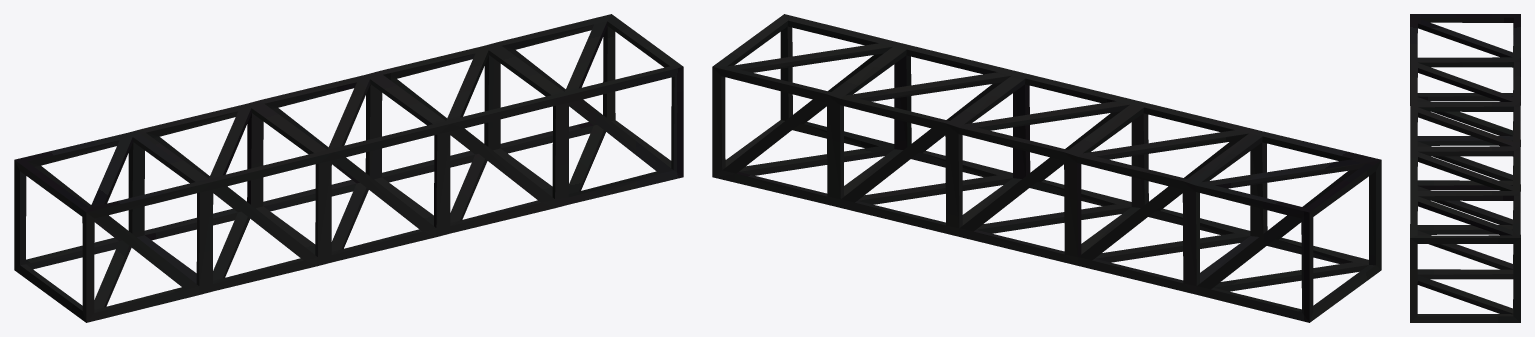
The model's file is Highway_Segment_Sign_Struct01.fbx.
The picture shows the model from 3 angles, left to right: view 1: azimuth 30°, elevation 25°; view 2: azimuth 150°, elevation 25°; view 3: azimuth 270°, elevation 25°; orthographic projection. The views are drawn at different scales.
Visible parts, largest first — view 1: SM_City_Highway_Sign_Struct_02.mo; view 2: SM_City_Highway_Sign_Struct_02.mo; view 3: SM_City_Highway_Sign_Struct_02.mo.
Part boxes in pixels (<box>): SM_City_Highway_Sign_Struct_02.mo: <box>14,14,683,322</box>; SM_City_Highway_Sign_Struct_02.mo: <box>712,14,1381,322</box>; SM_City_Highway_Sign_Struct_02.mo: <box>1410,14,1520,322</box>.
Size of the model in its own units: 500 by 88.46 by 105.
